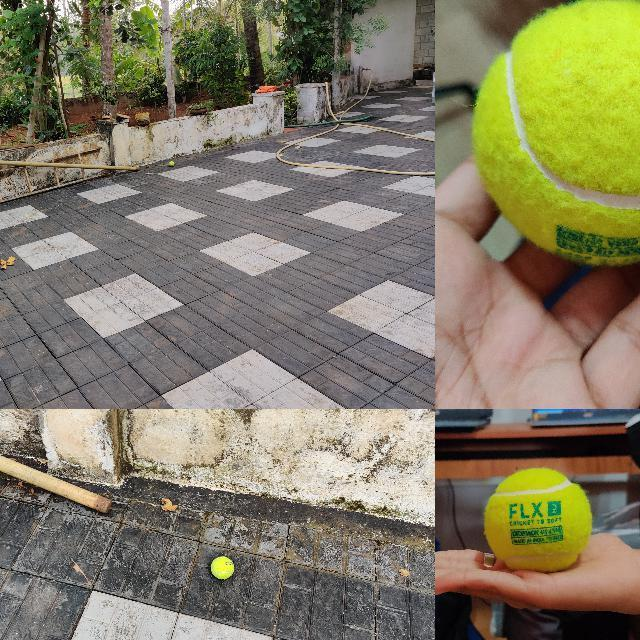tennis-ball: (473, 0, 639, 264), (485, 468, 592, 568), (210, 556, 234, 579), (169, 161, 174, 167)
